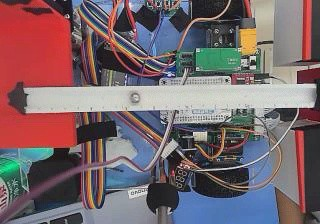ironball: (129, 91, 140, 102)
